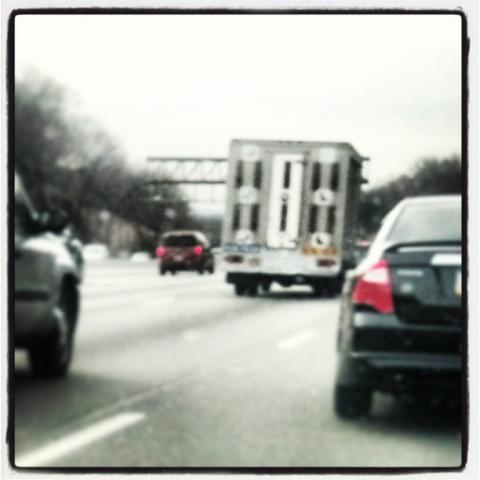car: (333, 192, 467, 422), (13, 171, 85, 379), (154, 229, 216, 276)
truck: (220, 138, 369, 298)
